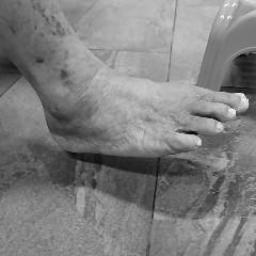Lateral View -Right Foot-: (9, 20, 254, 196)
